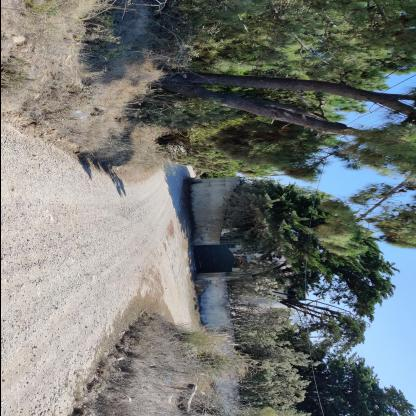plastik: (72, 110, 86, 119)
